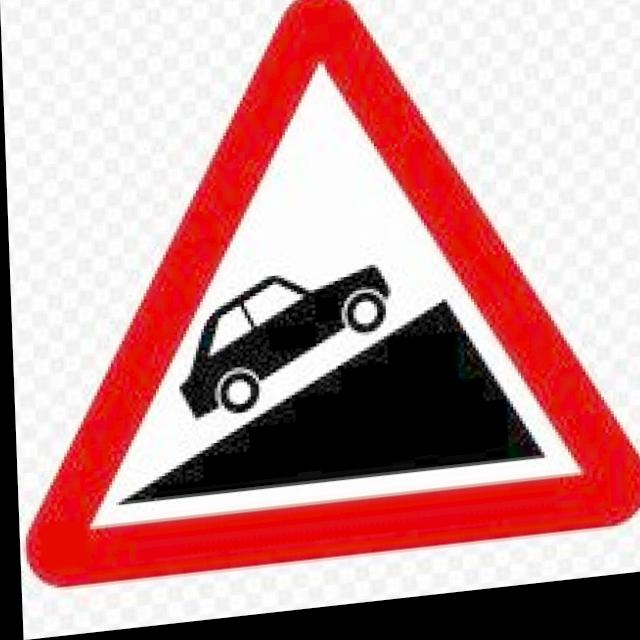STEEP_ASCENT: (3, 0, 640, 618)
